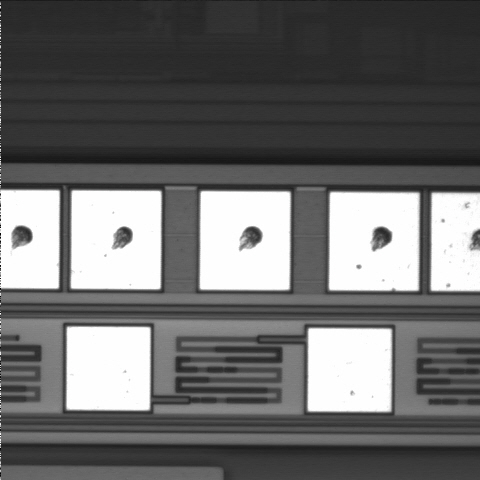pad: (200, 191, 290, 290), (329, 192, 419, 291), (71, 191, 161, 289), (308, 328, 391, 412), (67, 327, 150, 410)
